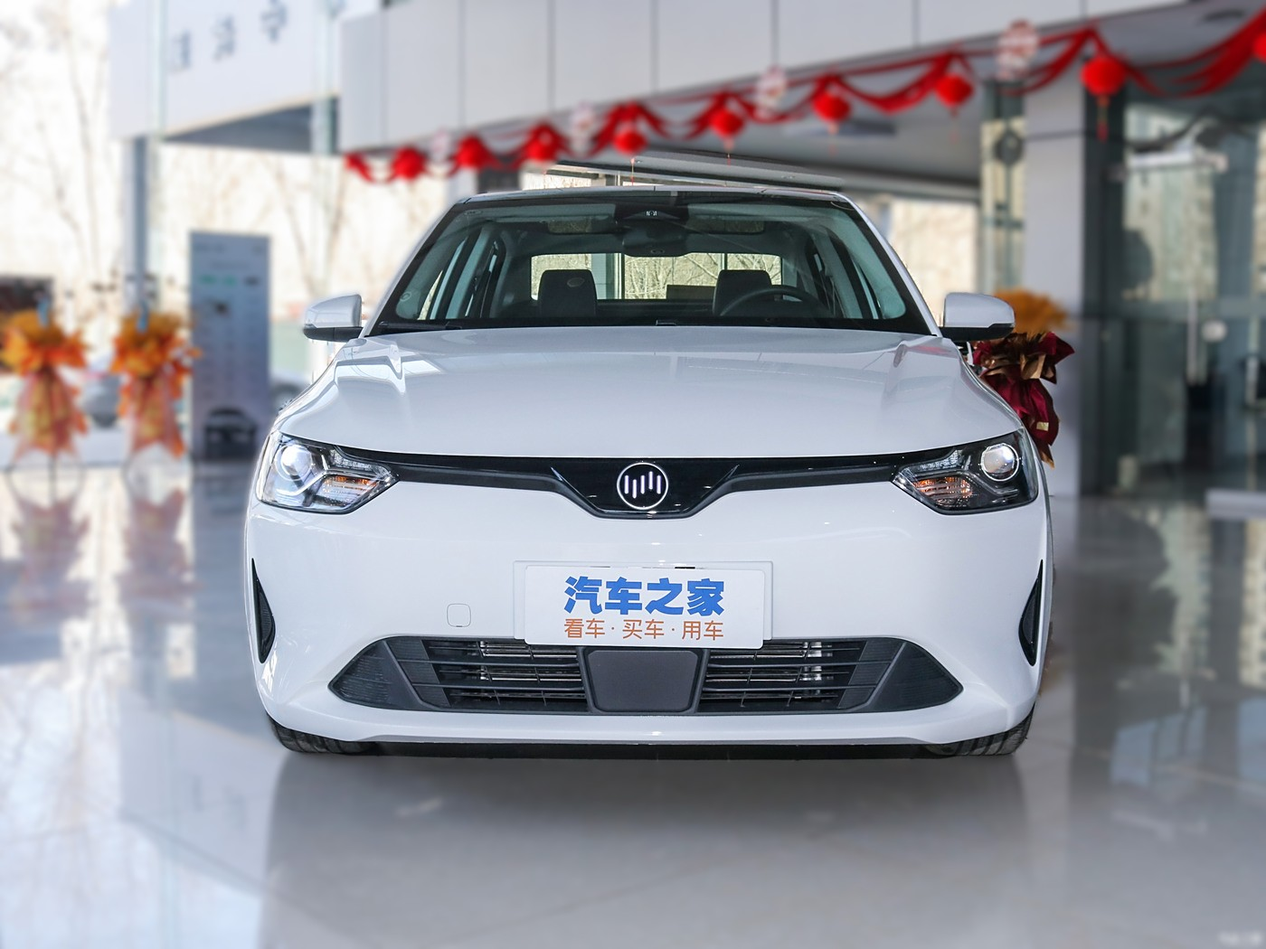WELTMEISTER: (618, 464, 667, 509)
